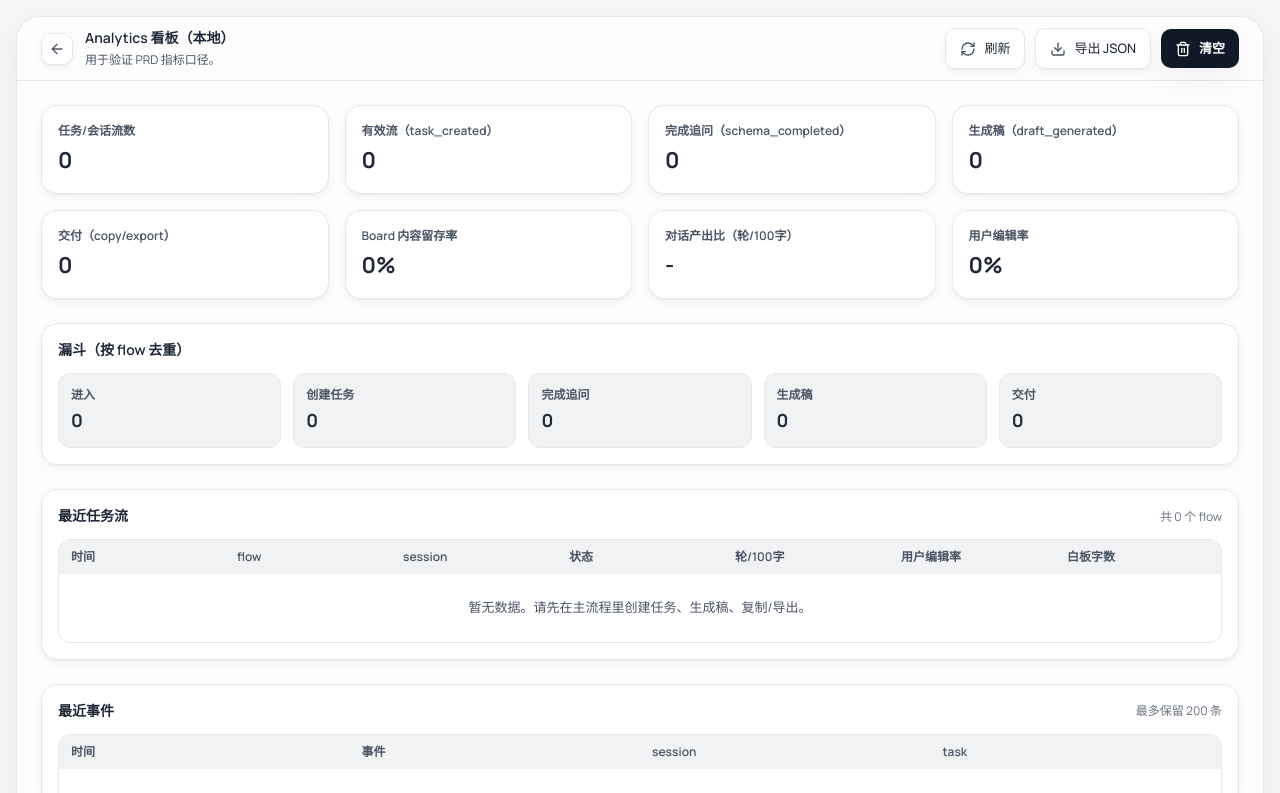
Test: AnalyticsPage › refreshes data from localStorage
This screenshot has width=1280, height=793.
Expected: the text "暂无数据。请先在主流程里创建任务、生成稿、复制/导出。" is shown, top-left (468, 598), bottom-right (812, 616)
Click the button with aria-label "刷新看板数据": click(985, 49) top-left (945, 28), bottom-right (1025, 69)
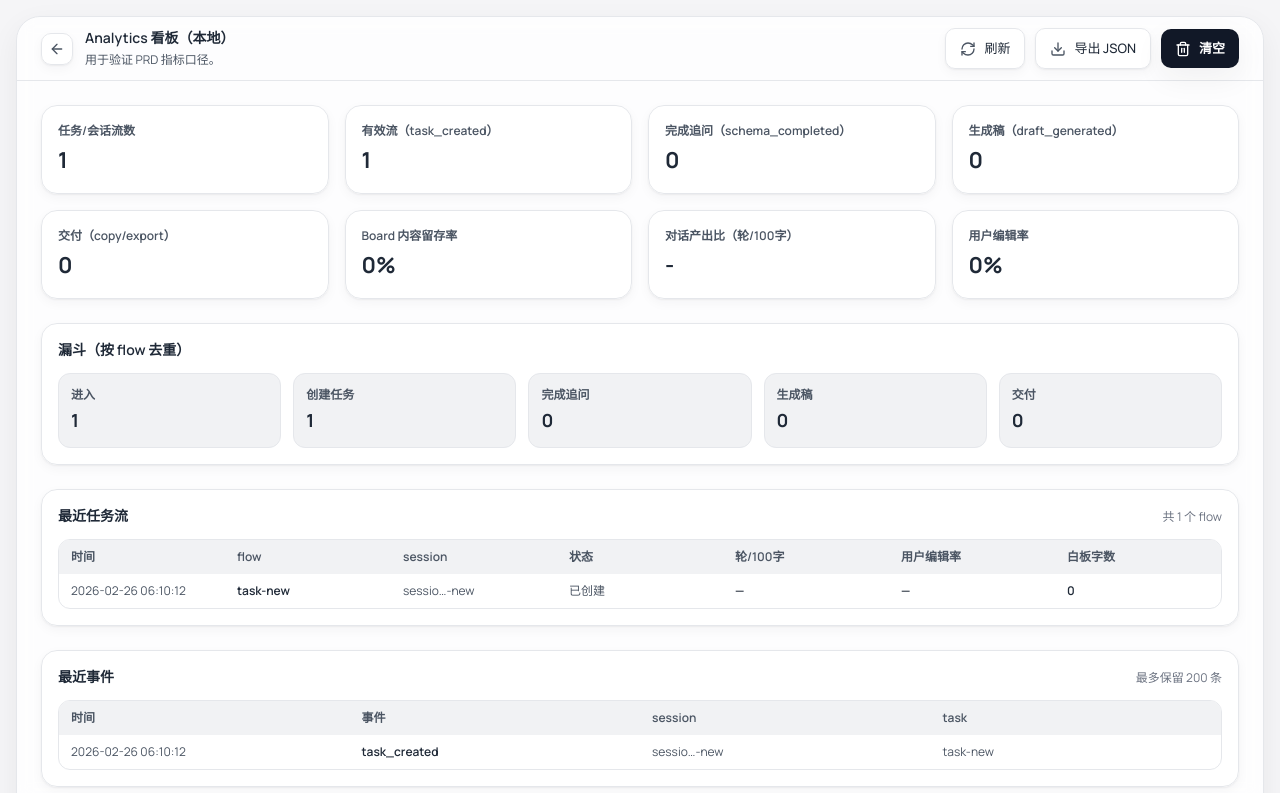
Result: the text "共 1 个 flow" is shown at top-left (1162, 508), bottom-right (1222, 526)
